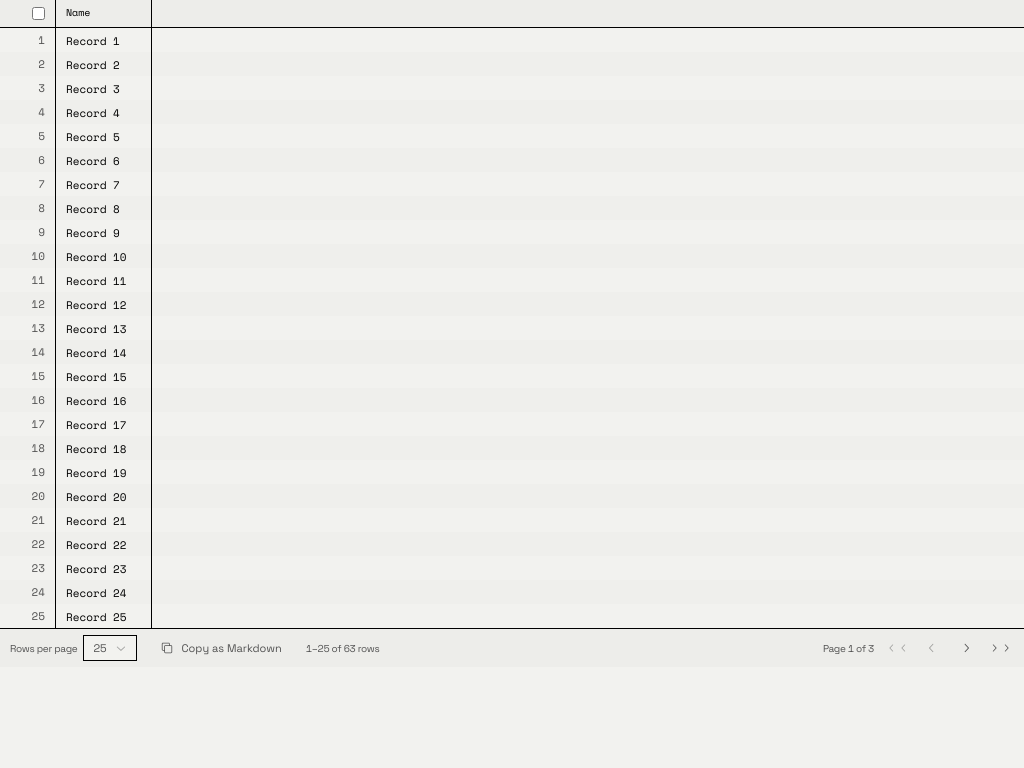
Test case: pages returned rows with absolute row numbers and disables navigation at the boundaries
Expected: the message reads "1–25 of 63 rows", [306,642,379,654]
Expected: the button named "Previous page" is disabled, [918,634,946,662]
What coordinates should you click on to do the following:
click the button named "Next page"
I would click on:
 (966, 648)
Its box is [952,634,980,662].
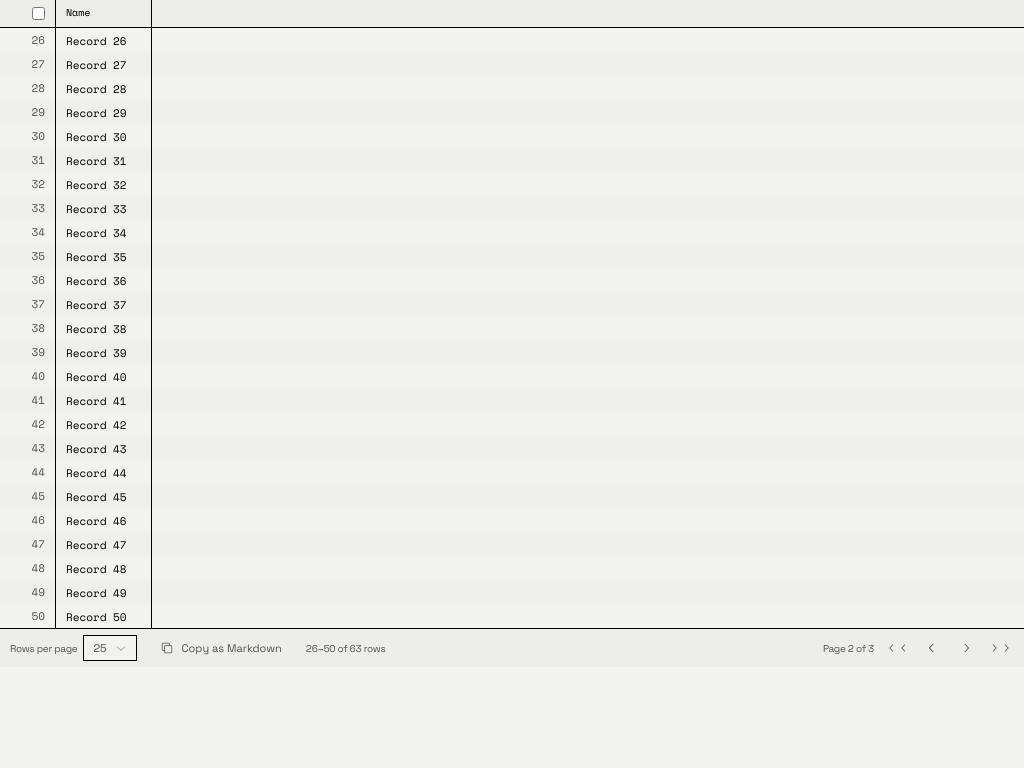
Now the message reads "26–50 of 63 rows", box [306,642,385,654]
Now the text "Record 1" is gone
Now the text "Record 26" is shown, box [56,28,152,52]
What coordinates should you click on to do the following:
click the button named "Last page"
I would click on:
 (1000, 648)
Its box is [986,634,1014,662].
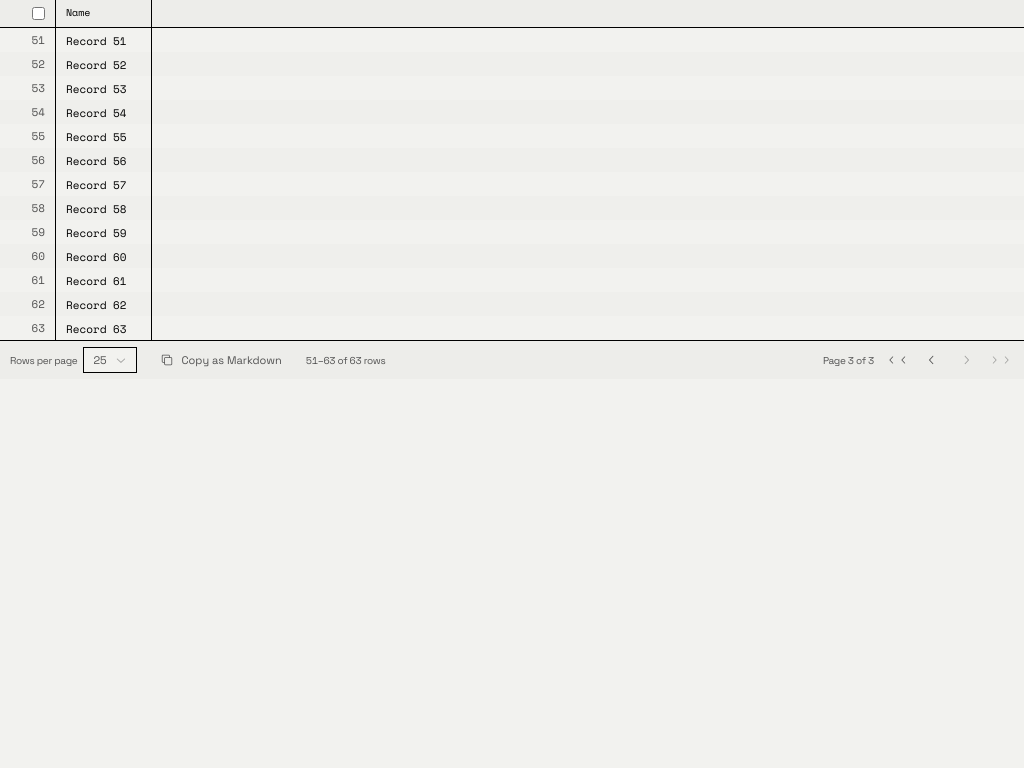
Expected: the button named "Next page" is disabled, [952,346,980,374]
Now the message reads "51–63 of 63 rows", box [306,354,385,366]
Now the number of cells is 13
What coordinates should you click on to do the following:
click the button named "First page"
I would click on:
 (898, 360)
Its box is [884,346,912,374].
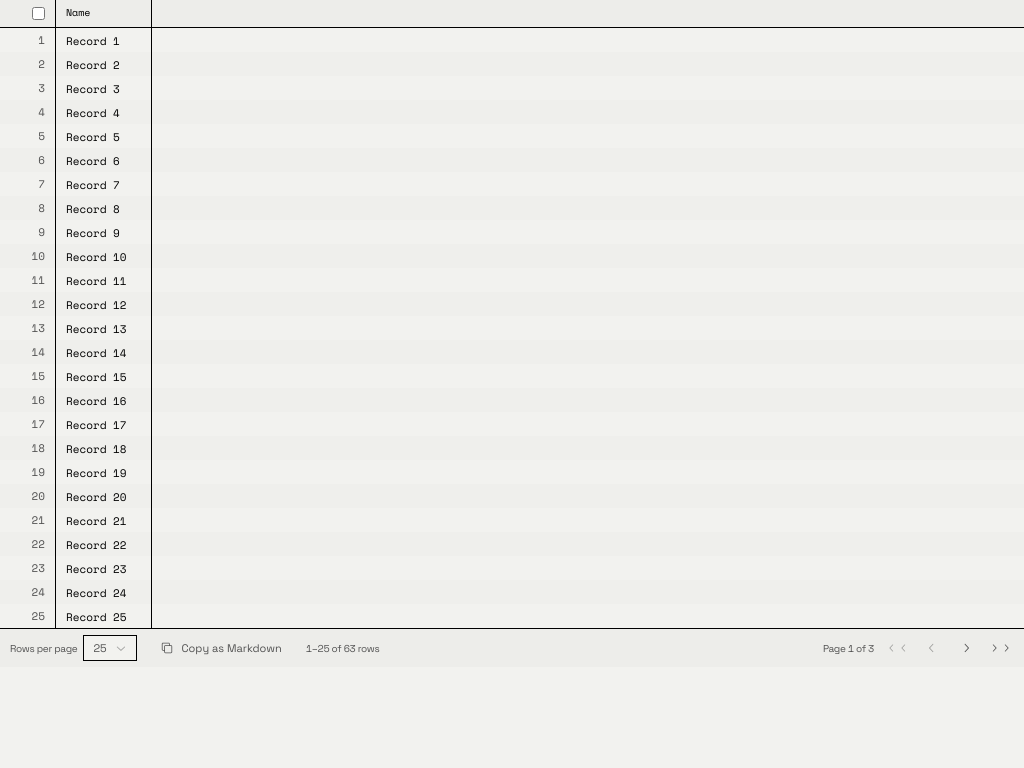
Now the text "Record 1" is shown, box [56,28,152,52]
